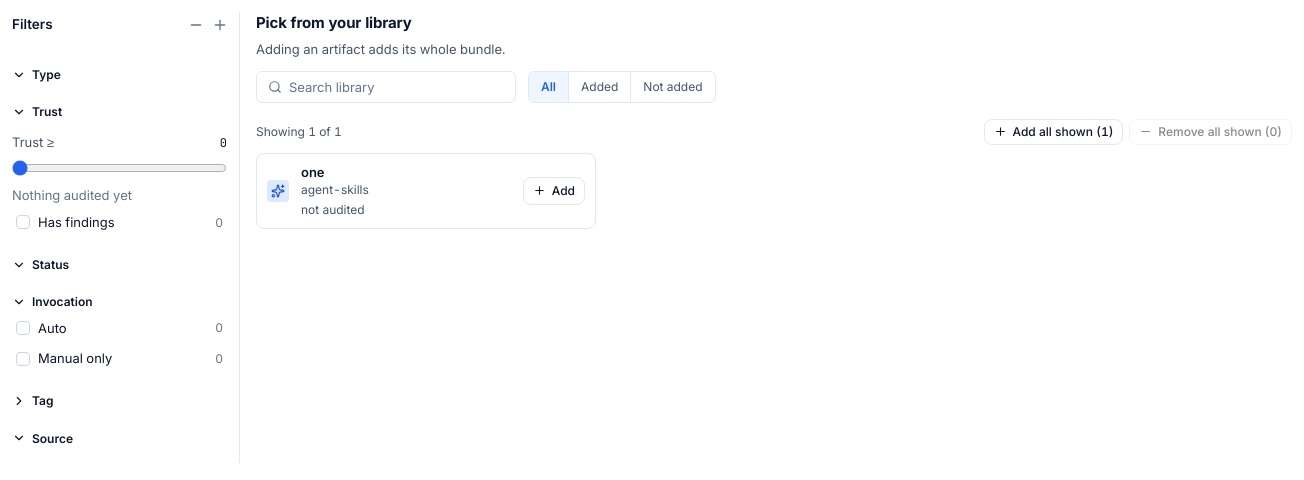
Test: Picker › says when the view has nothing and when the search has no matches
Expected: the text "one" is shown, [301,164,325,180]
Click the button "Added" at (599, 87), box [568,72,630,102]
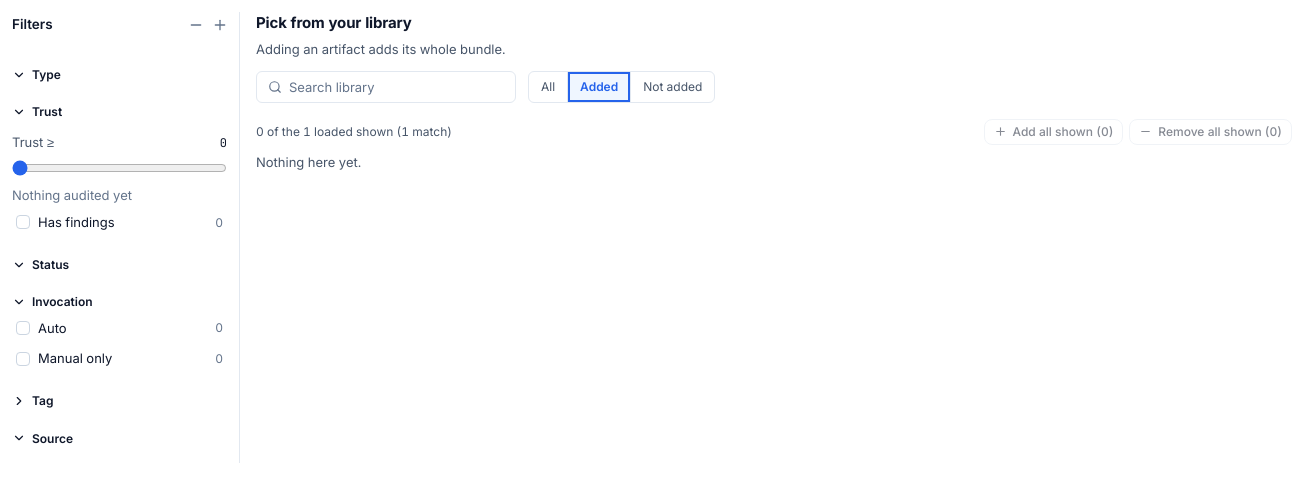
Expected: the text "Nothing here yet." is shown, [256,154,361,170]
Type "zzz" into the field labelled "Search library" at (386, 87), box [256,71,516,103]
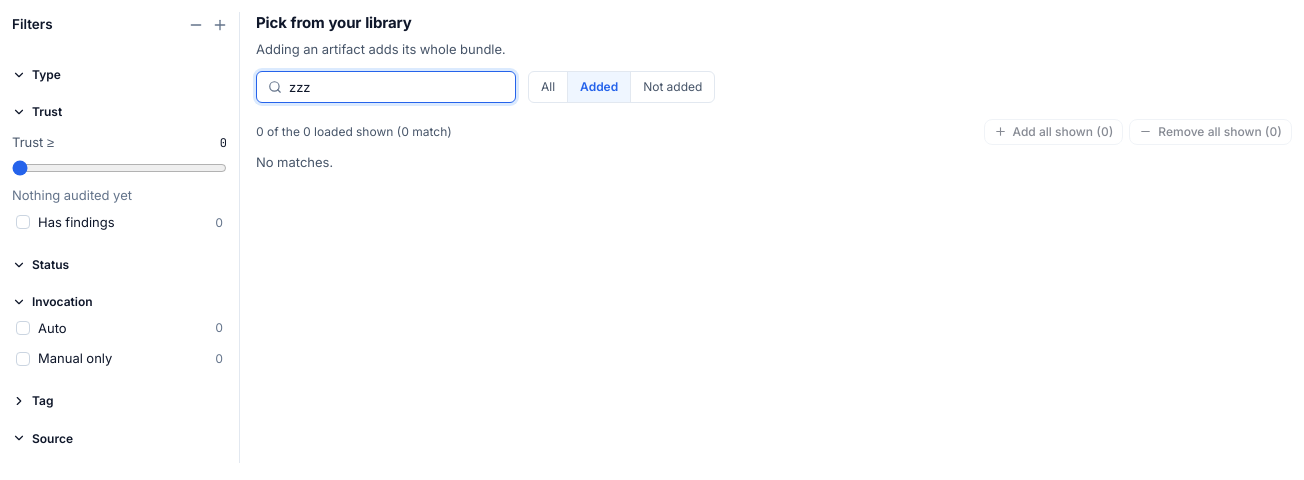
Expected: the text "No matches." is shown, [256,154,333,170]
